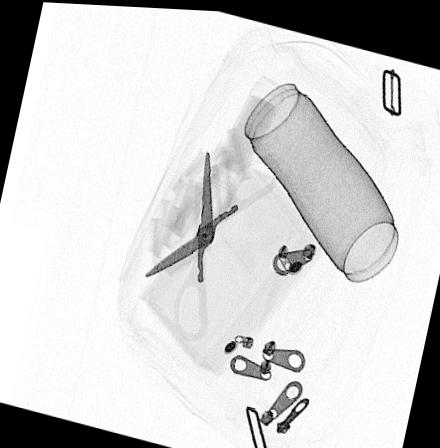Scissors: (140, 144, 277, 342)
